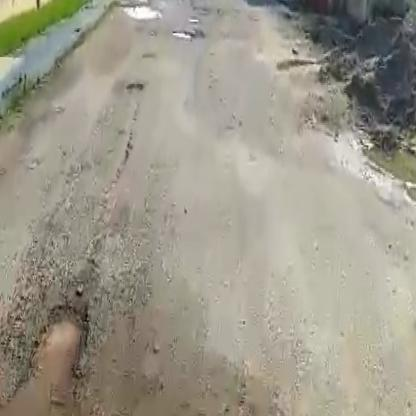pothole: (28, 300, 93, 385), (119, 2, 163, 22), (172, 30, 196, 44)
